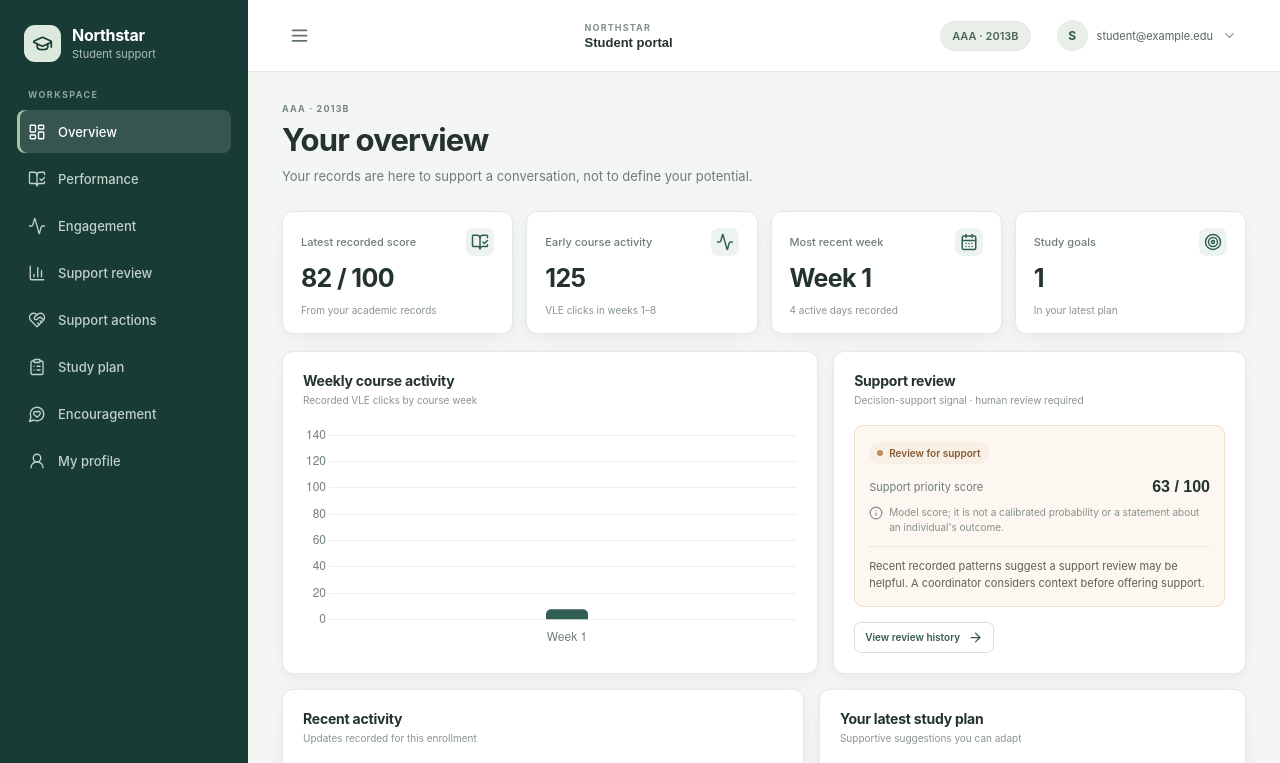
Test: student and coordinator frontend flows › uses transient token storage for a mocked session without modifying the saved browser login
Expected: the heading "Your overview" is shown, x1=282 y1=121 x2=489 y2=158
Click the button with aria-label "account menu for student@example.edu". click: (1147, 36)
box: x1=1048 y1=14 x2=1246 y2=57
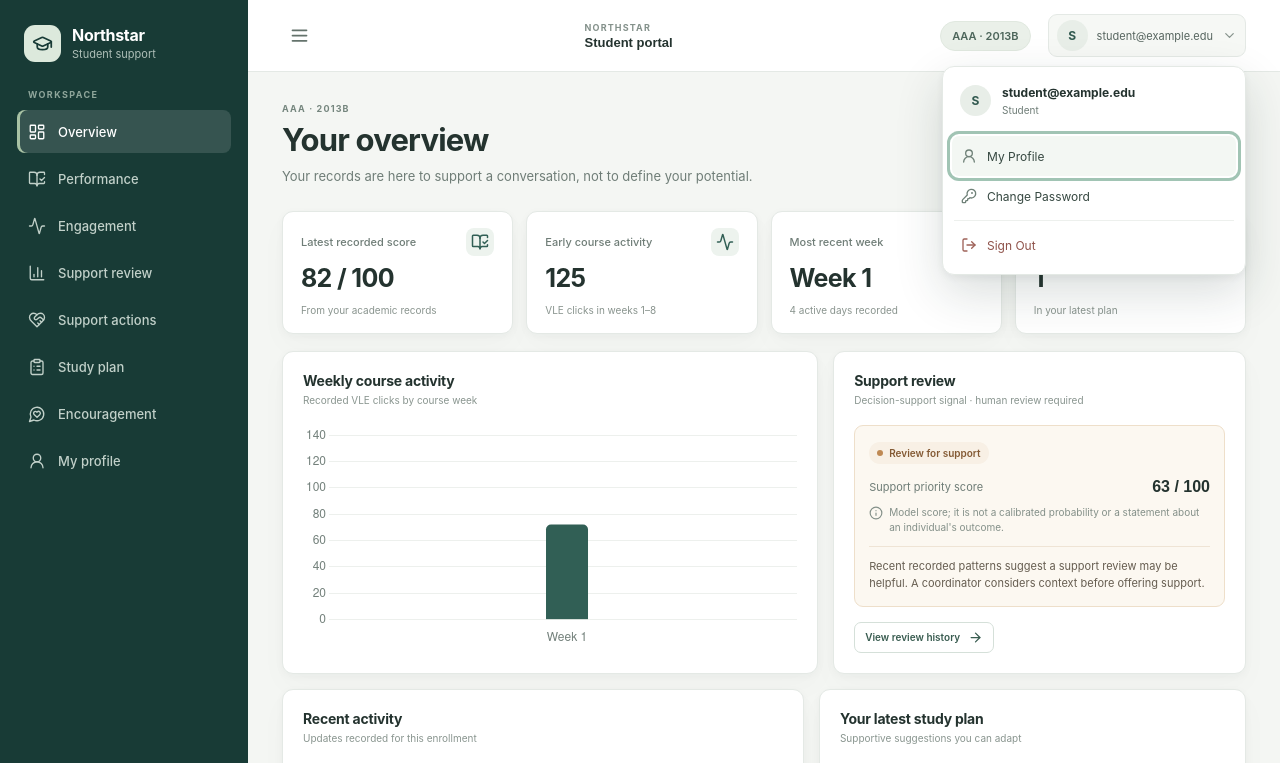
Click the menu item "Sign Out". click: (1011, 245)
box: x1=952 y1=225 x2=1236 y2=265
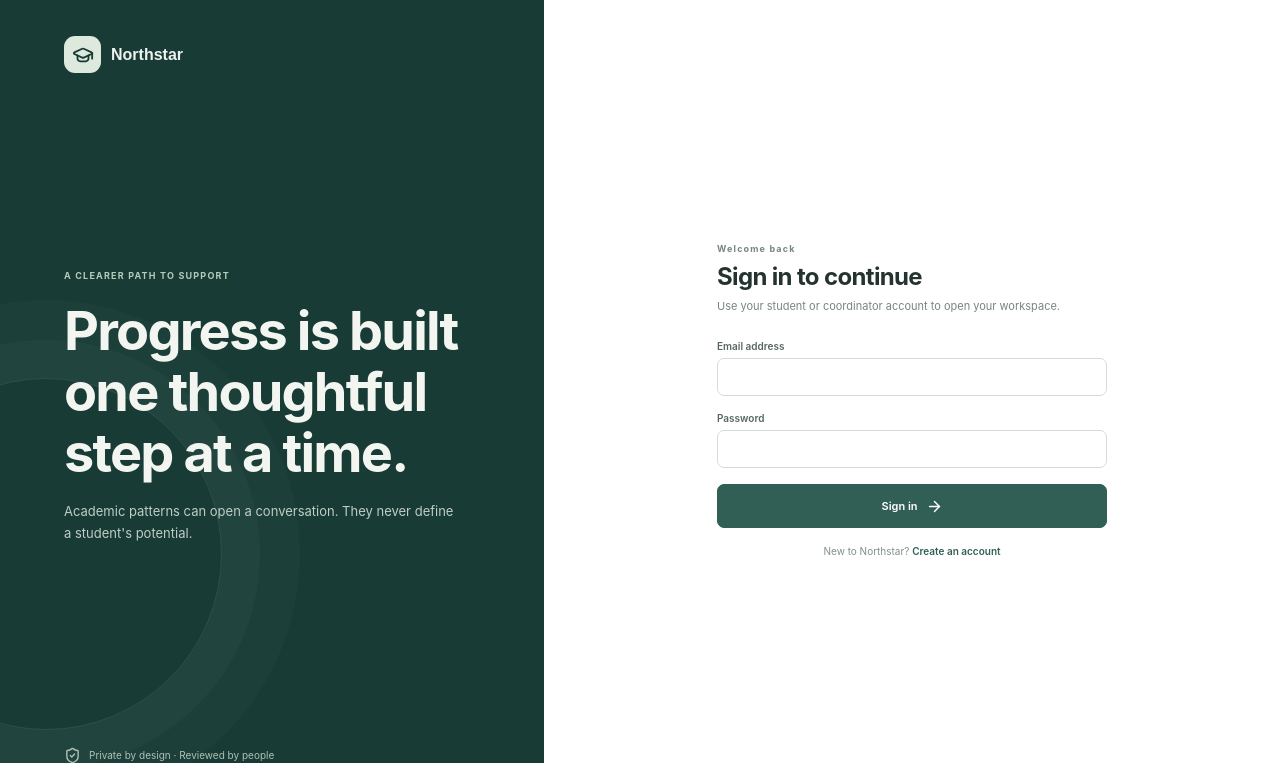
Now the heading "Sign in to continue" is shown, box x1=717 y1=262 x2=922 y2=291
